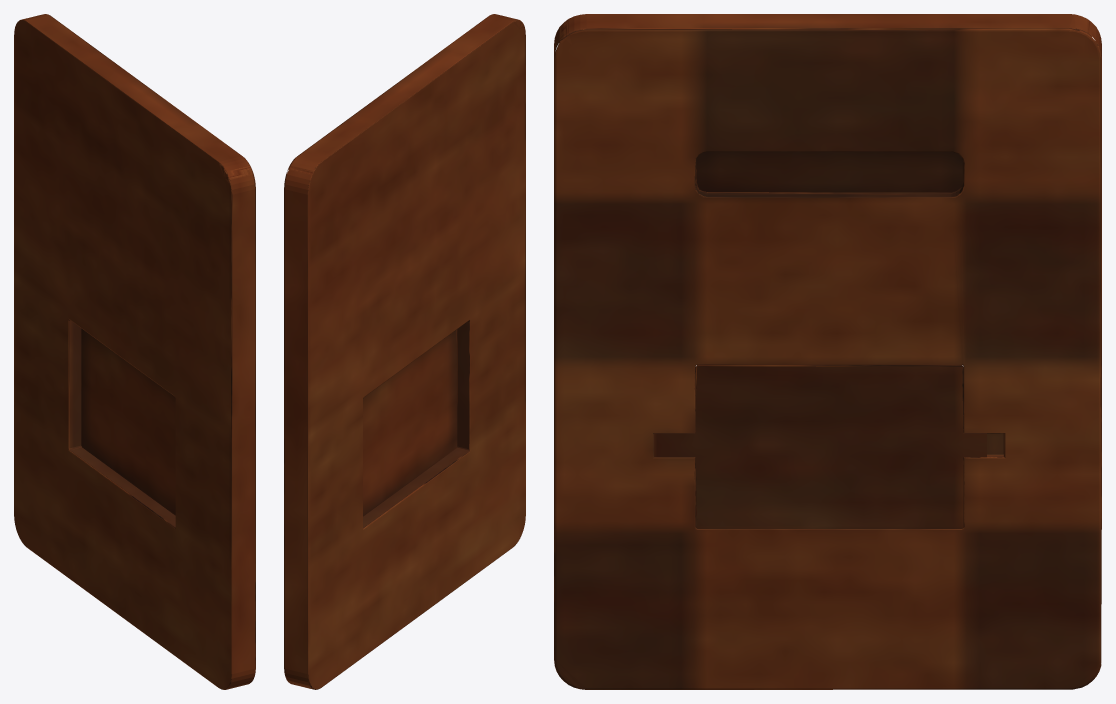
File: kitchenware_cuttingBoard_k01.glb
3 renders of one model, left to right at view 1: azimuth 30°, elevation 25°; view 2: azimuth 150°, elevation 25°; view 3: azimuth 270°, elevation 25°, orthographic. The views are drawn at different scales.
Parts seen in each view (by area): view 1: geometry_0; view 2: geometry_0; view 3: geometry_0.
Part boxes in pixels (left/top/right/bottom): geometry_0: left=14, top=14, right=255, bottom=689; geometry_0: left=284, top=14, right=525, bottom=689; geometry_0: left=554, top=14, right=1101, bottom=689.
Bounding box in the file's own units: 0.0215 × 0.42 × 0.315.
1 material, 1 textured.
